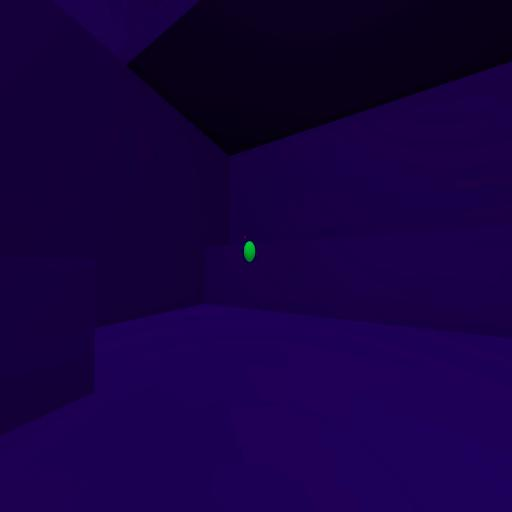Crosshair: (254, 252, 258, 260)
Target: (244, 239, 256, 262)
